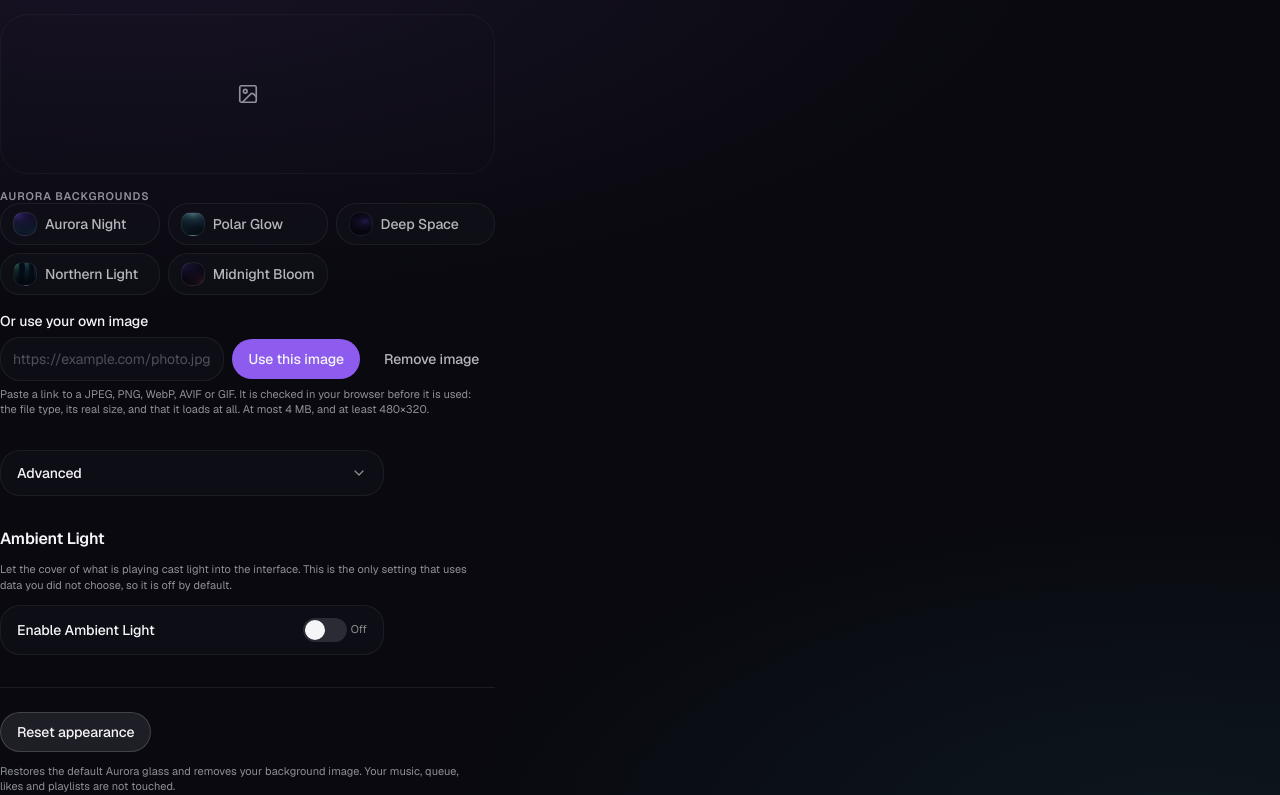
Scenario: Appearance panel: image-only Advanced controls admit they need a background › leaves every control that works without an image alone
(page scrolled)
What coordinates should you click on to do the following:
click the button with test id "appearance-advanced-toggle"
I would click on:
 (49, 473)
Its box is [0,450,384,496].
(page scrolled)
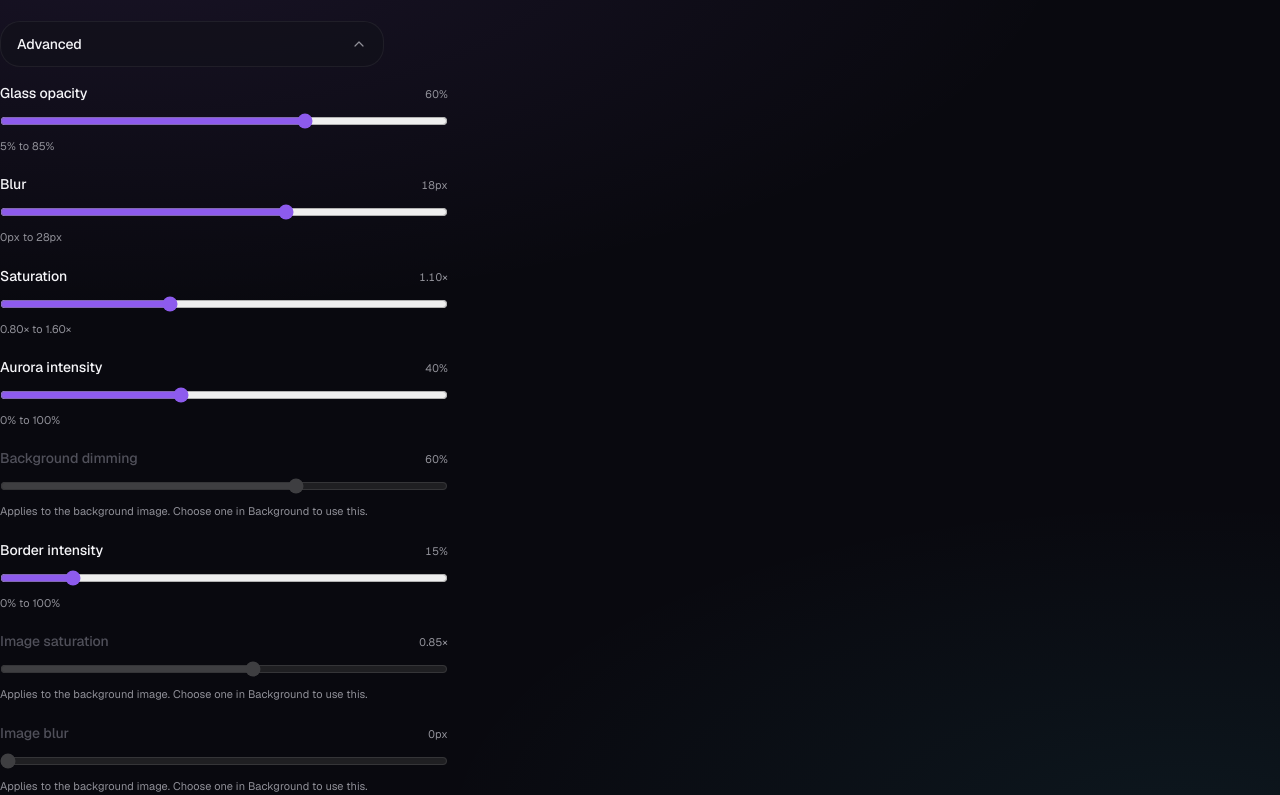
Result: the slider with test id "control-glassAlpha" is enabled at [0,109,448,133]
